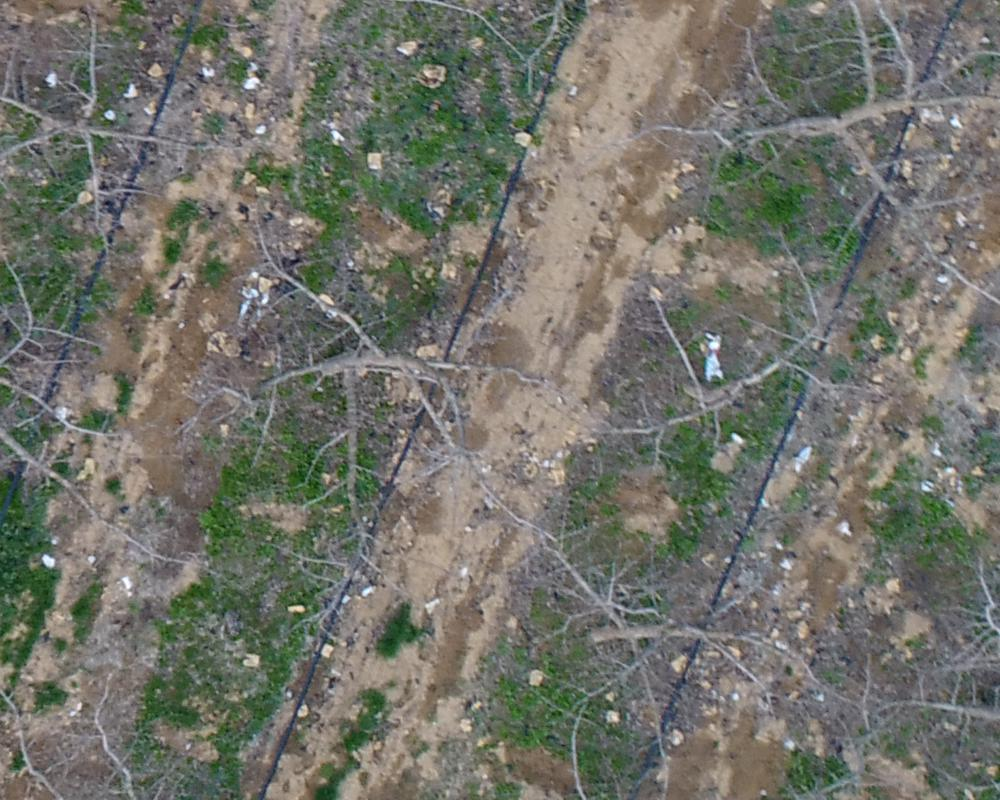apple: (641, 10, 990, 367), (225, 213, 560, 552), (10, 140, 229, 593), (513, 522, 837, 781), (579, 233, 901, 489), (10, 10, 217, 277)
